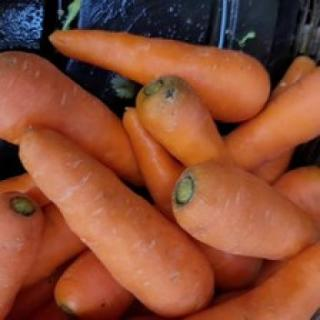Wortel: (20, 128, 216, 316), (48, 27, 271, 123)
